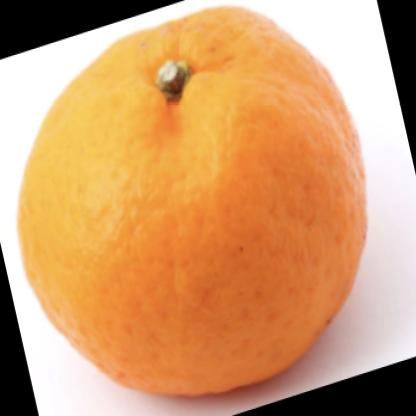fresh: (13, 7, 368, 401)
